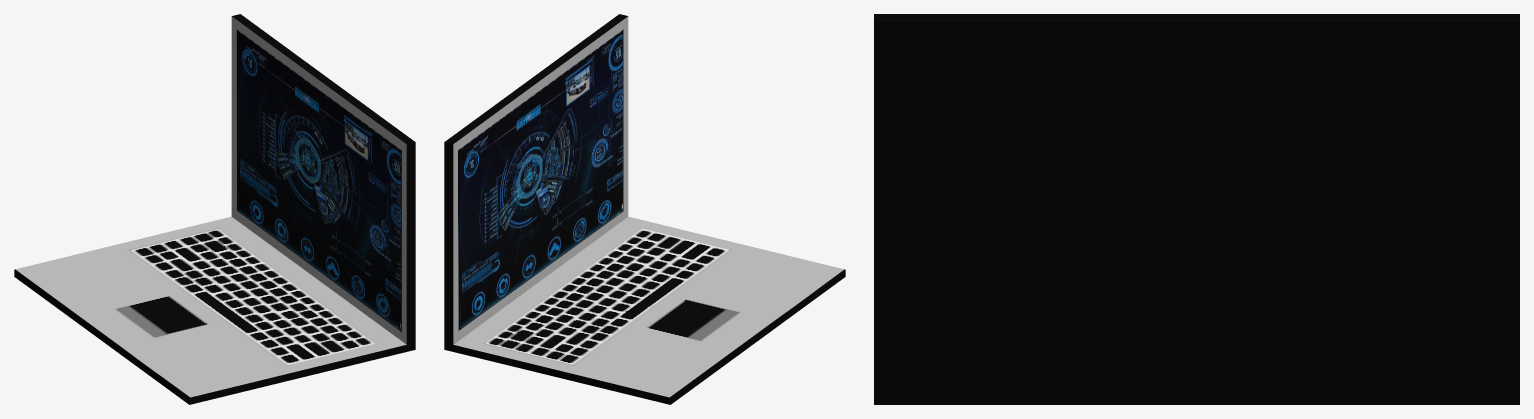
The model's file is Laptop_GenMain7.fbx.
The picture shows the model from 3 angles, left to right: view 1: azimuth 30°, elevation 25°; view 2: azimuth 150°, elevation 25°; view 3: azimuth 270°, elevation 25°; orthographic projection. The views are drawn at different scales.
Parts seen in each view (by area): view 1: Laptop; view 2: Laptop; view 3: Laptop.
Part boxes in pixels (x1=…): Laptop: x1=14, y1=14, x2=415, y2=404; Laptop: x1=444, y1=14, x2=845, y2=404; Laptop: x1=874, y1=14, x2=1519, y2=404.
Size of the model in its own units: 42.42 by 37.21 by 56.87.
